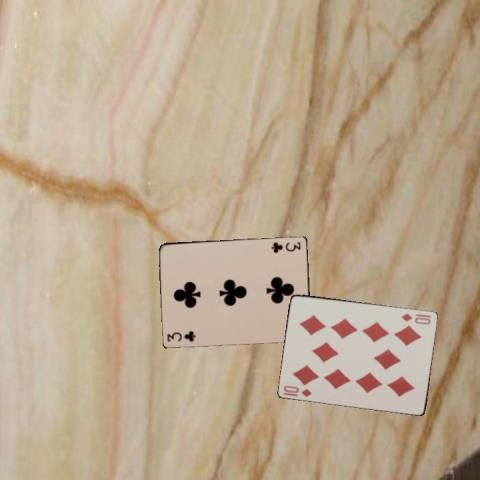10d: (399, 310, 432, 326), (281, 383, 313, 398)
3c: (269, 239, 302, 254), (165, 329, 197, 342)
